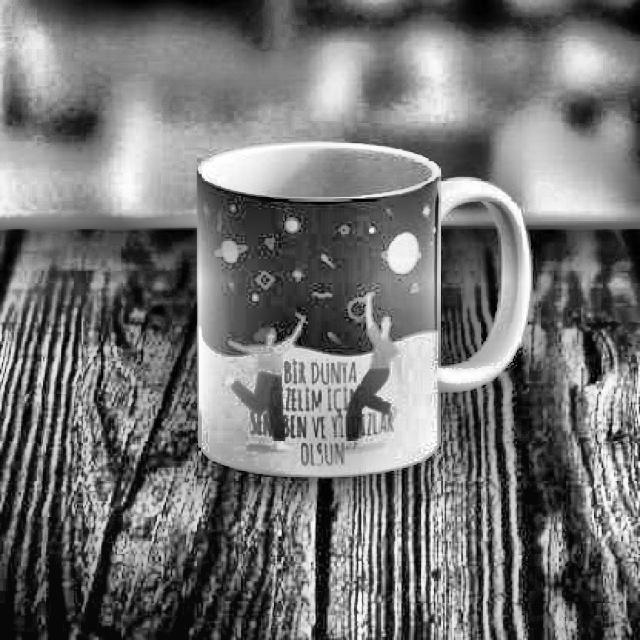Mug: (195, 141, 534, 477)
